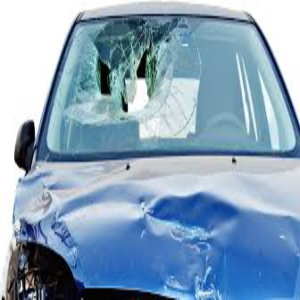bonnet: (43, 157, 292, 300)
front_windshield_glass: (72, 18, 265, 153)
